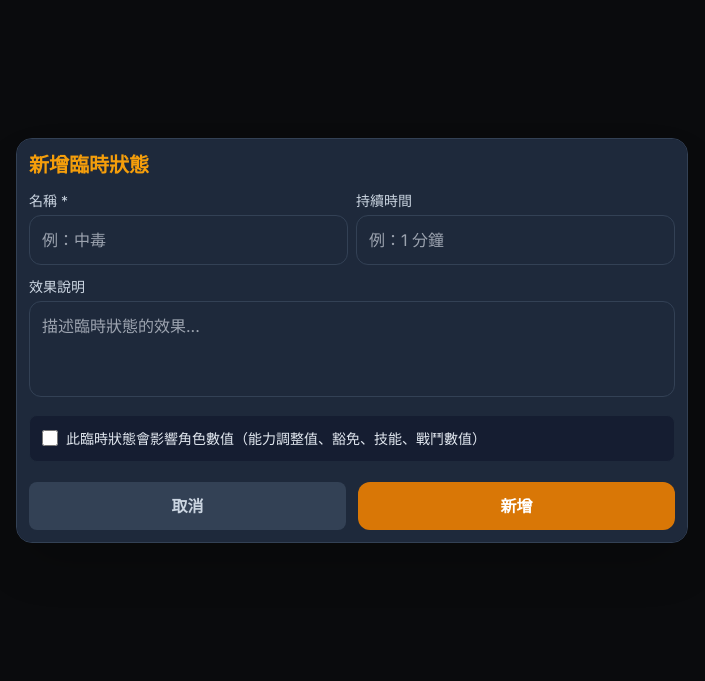
Test: AddTemporaryConditionModal › 預設不顯示 StatBonusEditor，勾選「影響角色數值」後才顯示
The width and height of the screenshot is (705, 681).
Check: the text "加值" is not shown
Click the checkbox labelled "此臨時狀態會影響角色數值（能力調整值、豁免、技能、戰鬥數值）". click: (50,438)
box: [42,430,58,446]
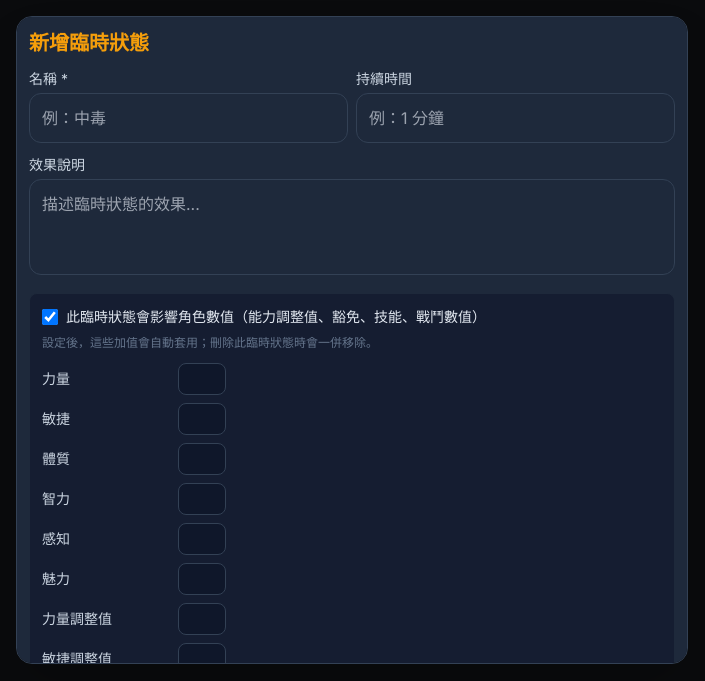
Check: the text "設定後，這些加值會自動套用；刪除此臨時狀態時會一併移除。" is shown, box [42,335,378,350]
